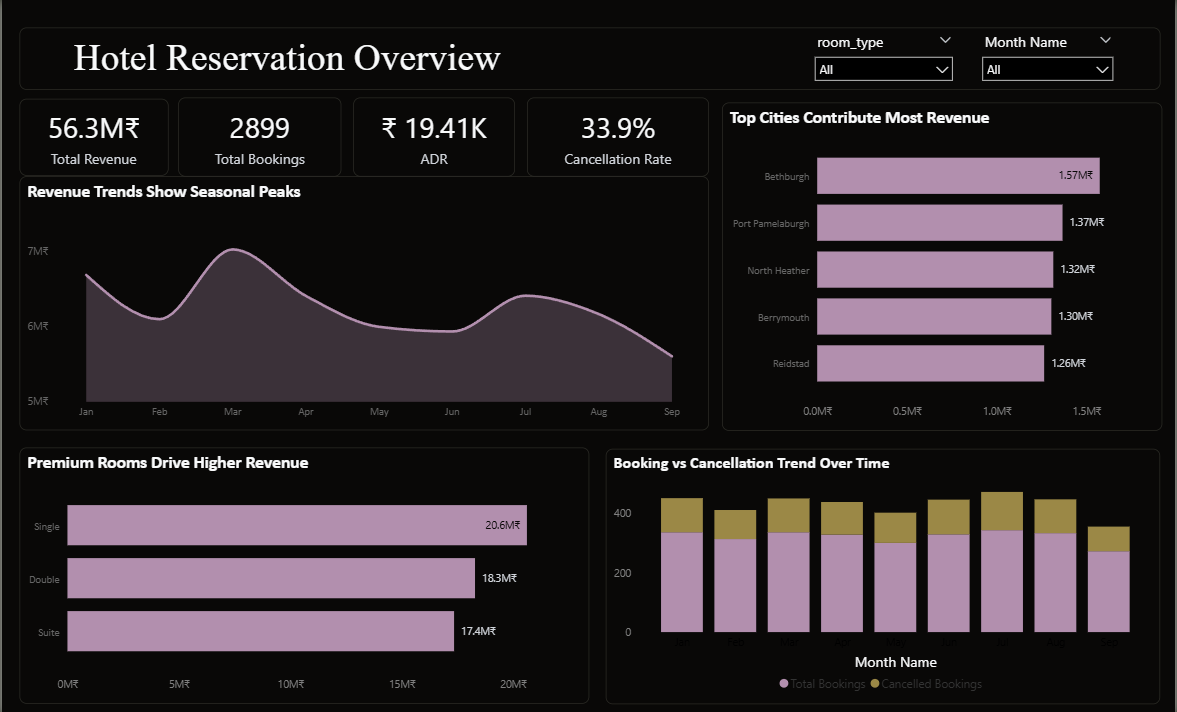

The page's visual inventory and layout, read from the dashboard file:
{"tool":"powerbi","page":{"name":"Dashboard","canvas":[1341,818],"ordinal":1},"visuals":[{"type":"columnChart","title":"Booking vs Cancellation Trend Over Time","fields":{"Category":["DateTable.Month Name"],"Y":["Booking_Latest_Status.Total Bookings","Booking_Latest_Status.Cancelled Bookings"]},"box":[690,513.3,633.3,291.7],"z":0},{"type":"lineChart","title":"Revenue Trends Show Seasonal Peaks","fields":{"Category":["DateTable.Month Name"],"Y":["Booking_Latest_Status.Total Revenue"]},"box":[20,201.7,788.3,290],"z":1000},{"type":"card","fields":{"Values":["Booking_Latest_Status.Total Revenue"]},"box":[20,113.3,170,88.3],"z":2000},{"type":"card","fields":{"Values":["Booking_Latest_Status.Total Bookings"]},"box":[201.7,111.7,186.7,90],"z":3000},{"type":"card","fields":{"Values":["Booking_Latest_Status.Cancellation Rate"]},"box":[600,111.7,208.3,90],"z":4000},{"type":"textbox","box":[20,32,1304,71],"z":5000},{"type":"slicer","fields":{"Values":["rooms_large.room_type"]},"box":[918.3,31.7,178.3,75],"z":6000},{"type":"clusteredBarChart","title":"Top Cities Contribute Most Revenue","fields":{"Category":["hotels_large.city"],"Y":["Measure.Total Revenue"]},"box":[823.3,116.7,503.3,375],"z":7000},{"type":"card","fields":{"Values":["Measure.ADR"]},"box":[401.7,111.7,185,90],"z":8000},{"type":"barChart","title":"Premium Rooms Drive Higher Revenue","fields":{"Category":["rooms_large.room_type"],"Y":["Booking_Latest_Status.Total Revenue"]},"box":[20,511.4,651.4,292.9],"z":9000},{"type":"slicer","fields":{"Values":["DateTable.Month Name"]},"box":[1110,31.7,170,70],"z":10000}]}

Visuals, with their boxes in screenshot pixels (x1, y1, x2, y2), scaled from the page's 1341x818 canvas onto the 1177x712 screenshot:
"Booking vs Cancellation Trend Over Time" columnChart: (606, 447, 1161, 701)
"Revenue Trends Show Seasonal Peaks" lineChart: (18, 176, 709, 428)
card - Booking_Latest_Status.Total Revenue: (18, 99, 167, 175)
card - Booking_Latest_Status.Total Bookings: (177, 97, 341, 176)
card - Booking_Latest_Status.Cancellation Rate: (527, 97, 709, 176)
textbox: (18, 28, 1162, 90)
slicer - rooms_large.room_type: (806, 28, 962, 93)
"Top Cities Contribute Most Revenue" clusteredBarChart: (723, 102, 1164, 428)
card - Measure.ADR: (353, 97, 515, 176)
"Premium Rooms Drive Higher Revenue" barChart: (18, 445, 589, 700)
slicer - DateTable.Month Name: (974, 28, 1123, 89)
